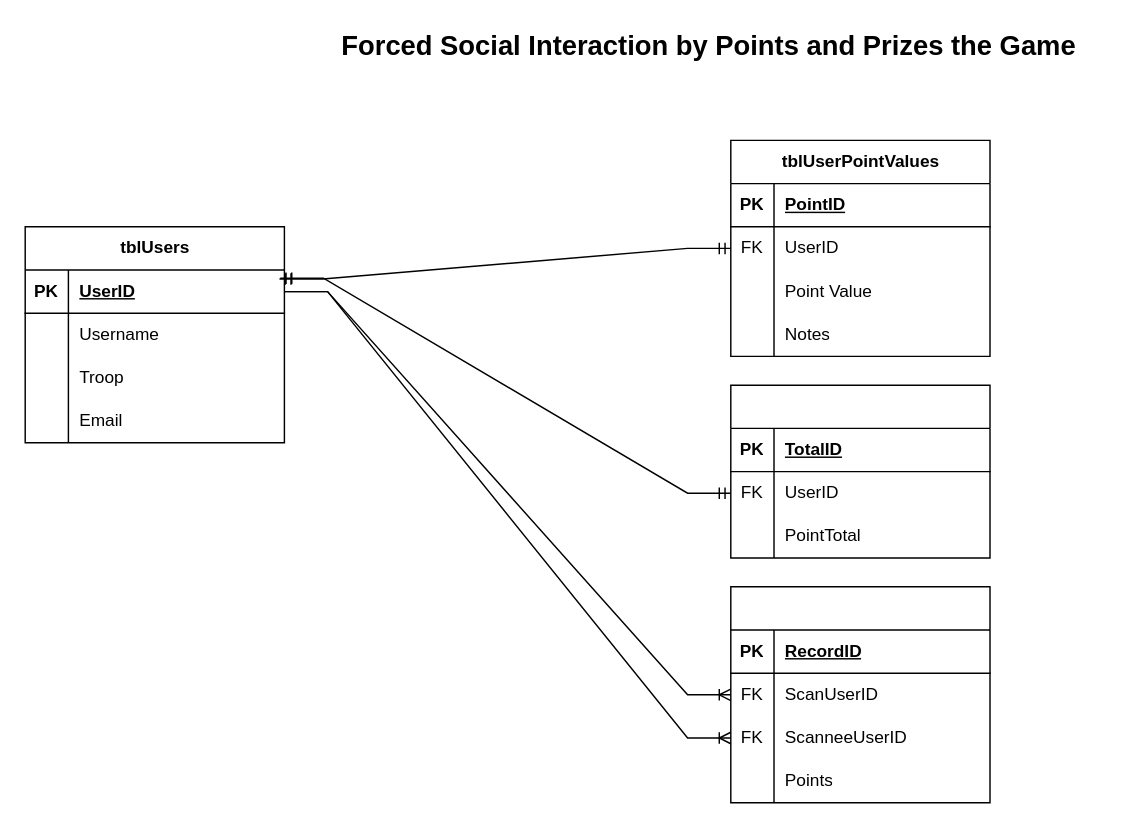
This 1130x828 diagram has some shape labels left out. Here are the shapes that lost their labels. From the top down, the box of each, then its label:
(729, 384, 990, 558): tblPointTotals
(729, 585, 990, 803): tblPointsRecord
